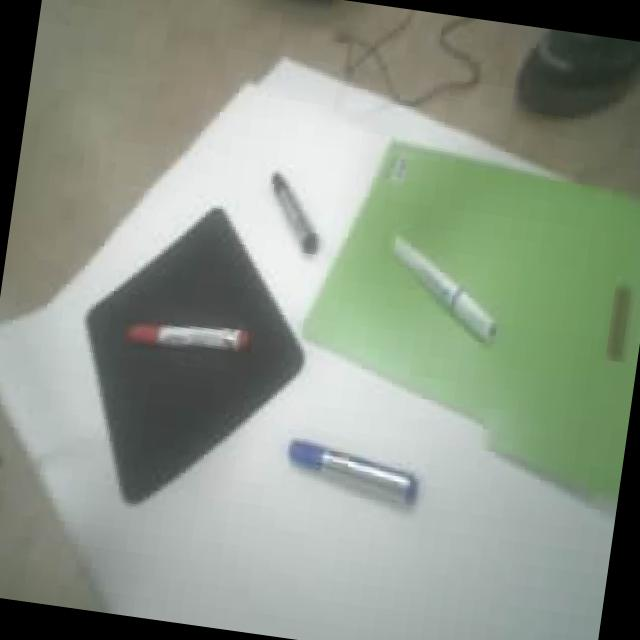board-marker: (395, 238, 497, 341), (289, 439, 420, 503), (273, 172, 320, 254), (128, 322, 251, 350)
